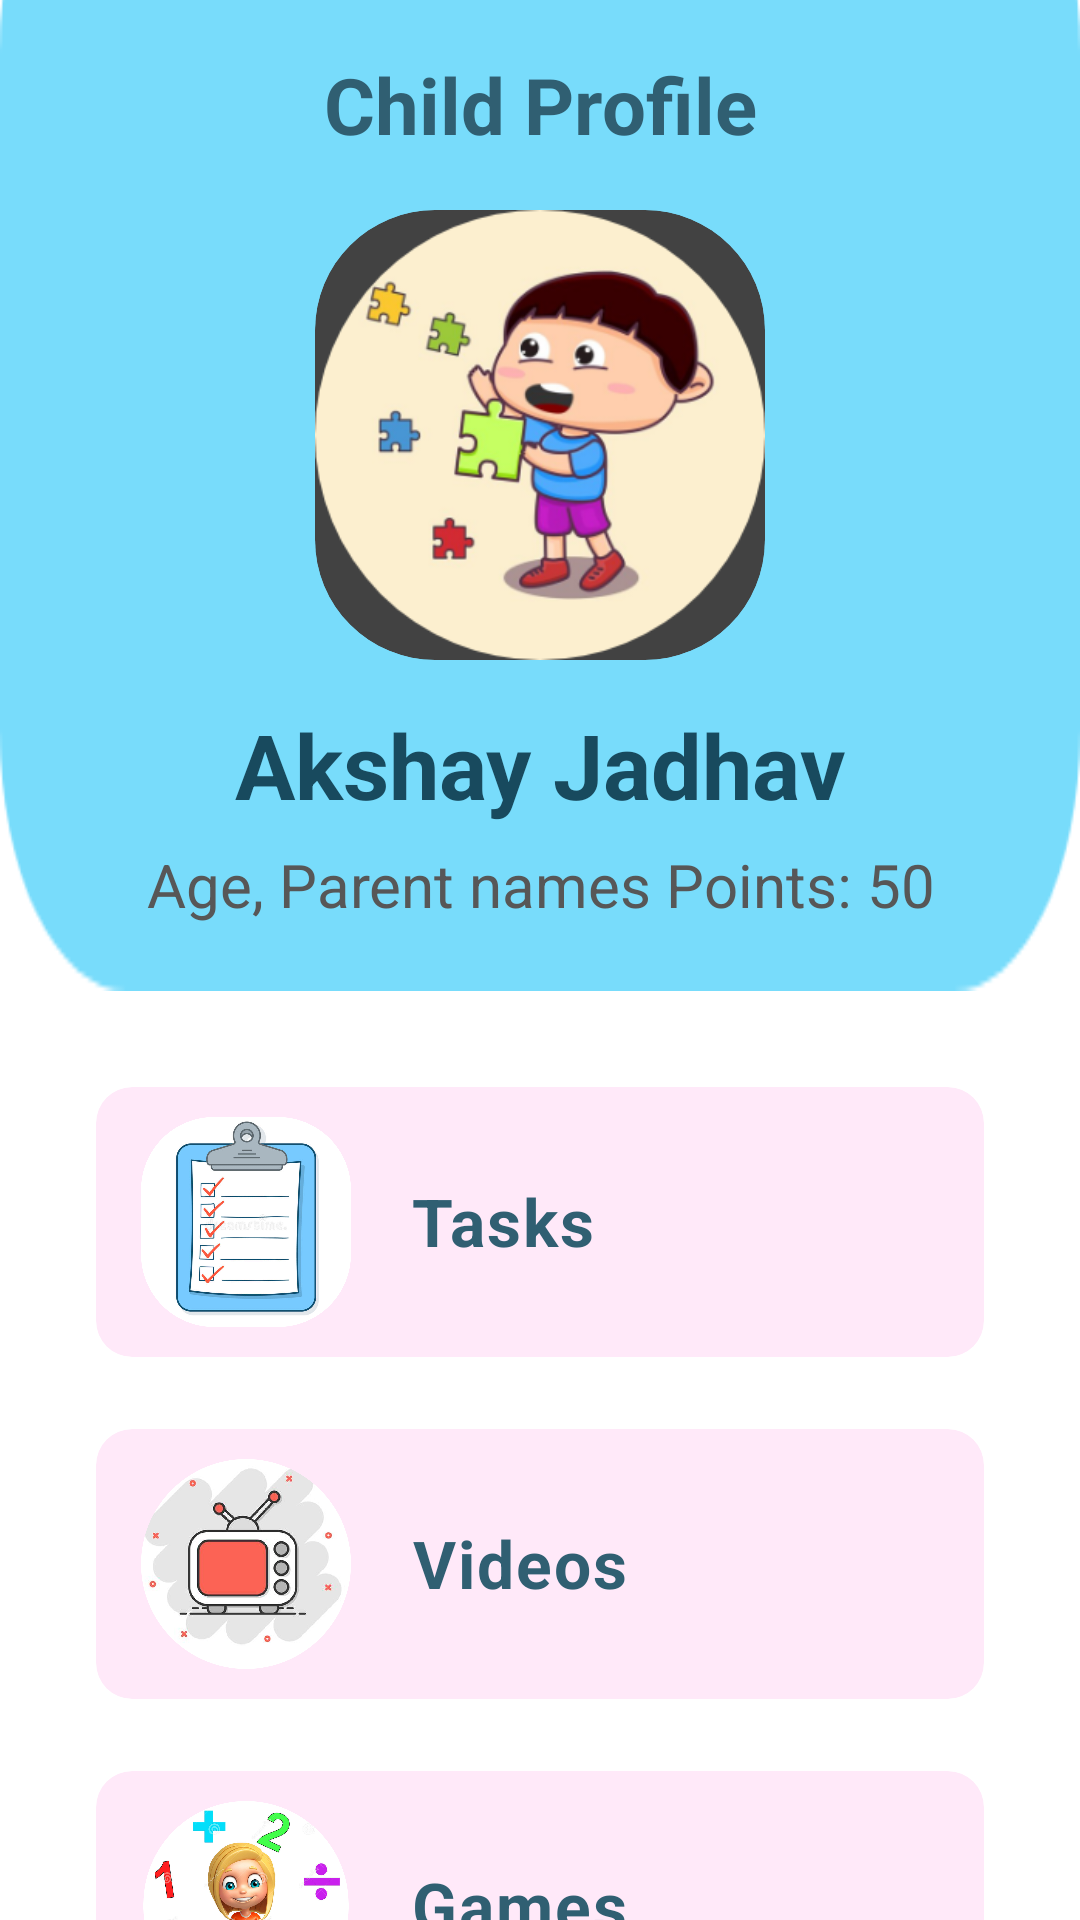

Icons on this 1080px x 1920px Android screen, each with its box as (x1, y1, x2, y2):
todocartoonimg: (141, 1117, 351, 1327)
videocartoonimg: (145, 1469, 341, 1644)
